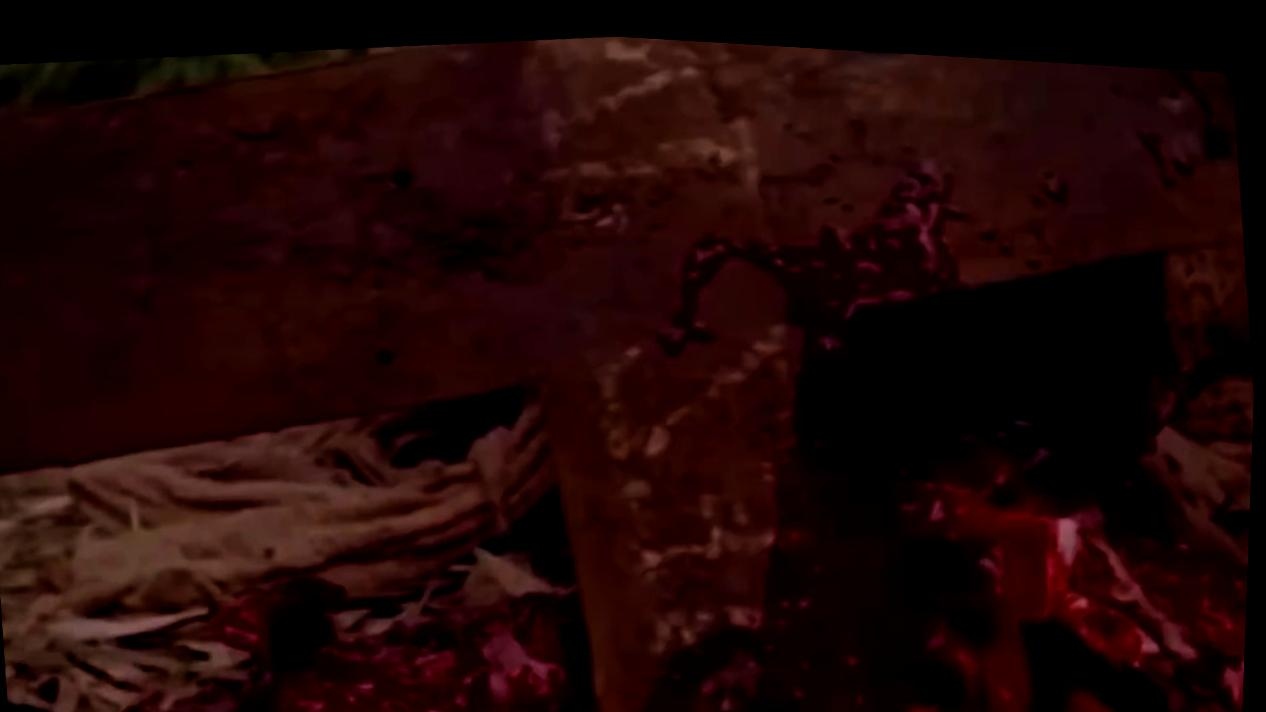Fire: (635, 149, 1255, 712), (207, 386, 599, 712)
